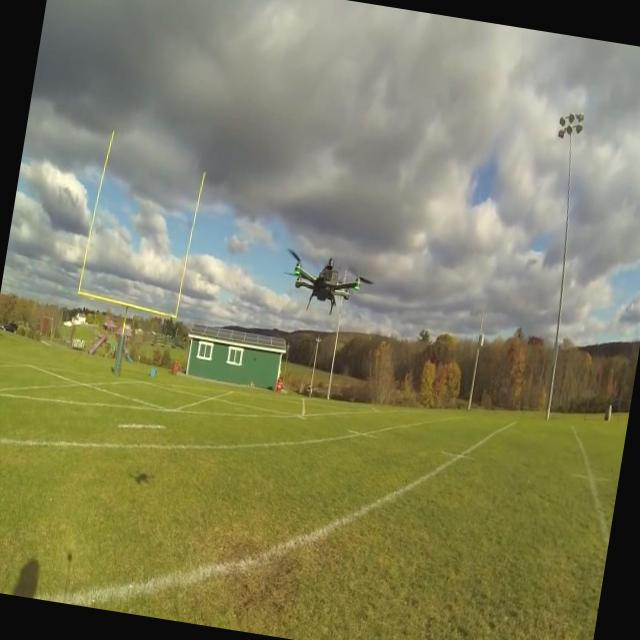drone: (274, 246, 378, 324)
